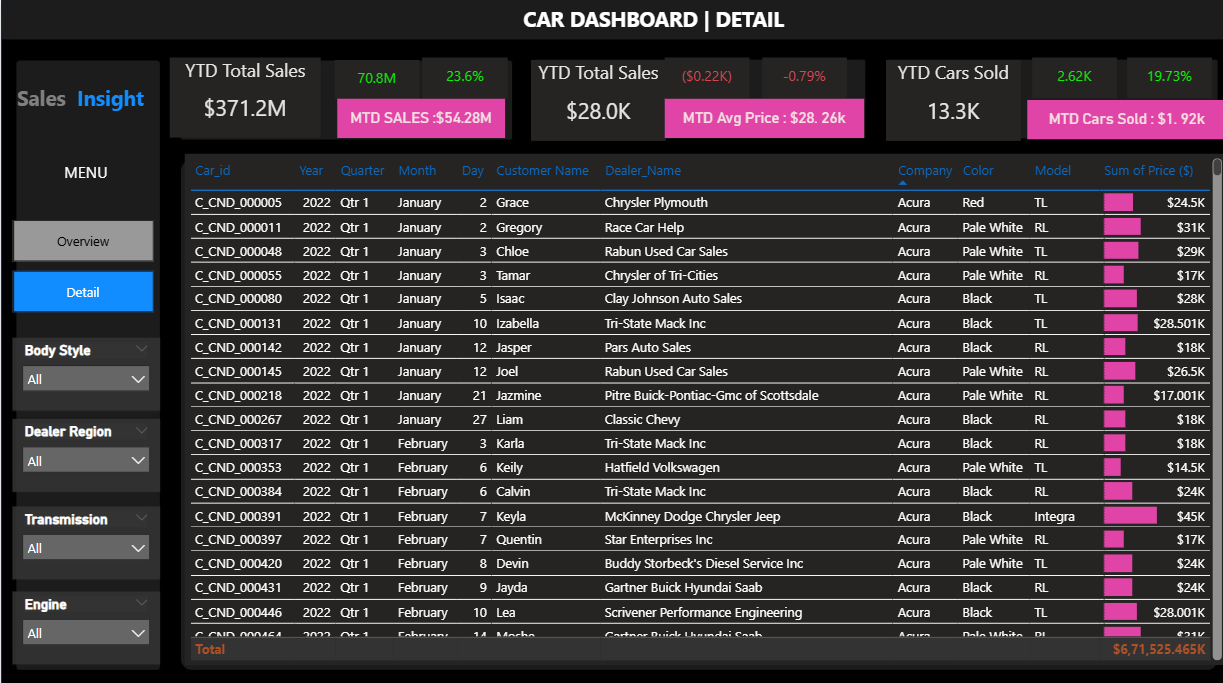

This screenshot's page, from the dashboard's own definition file:
{"tool":"powerbi","page":{"name":"Detail","canvas":[1280,720],"ordinal":1},"visuals":[{"type":"card","title":"YTD Total Sales","fields":{"Values":["car_data.YTD Total Sales"]},"box":[175.5,60.1,157.1,83.4],"z":0},{"type":"card","fields":{"Values":["car_data.dif sales"]},"box":[347.2,61.7,87.8,41.2],"z":1000},{"type":"card","fields":{"Values":["car_data.yoy sales diff"]},"box":[437.7,60.4,89.2,42.5],"z":2000},{"type":"card","fields":{"Values":["car_data.MTD SALES"]},"box":[349.9,102.9,174.3,41.2],"z":3000},{"type":"card","title":"YTD Total Sales","fields":{"Values":["car_data.YTD Avg Price"]},"box":[550.3,61.7,140,83.7],"z":4000},{"type":"card","fields":{"Values":["car_data.Avg Price Diff"]},"box":[690.2,60.4,87.8,42.5],"z":5000},{"type":"card","fields":{"Values":["car_data.YoY Avg Price Growth"]},"box":[790.4,60.4,87.8,42.5],"z":6000},{"type":"card","fields":{"Values":["car_data.MTD Avg Price KPI"]},"box":[690.2,102.9,207.2,41.2],"z":7000},{"type":"card","title":"YTD Cars Sold","fields":{"Values":["car_data.YTD Cars Sold"]},"box":[919.4,61.7,140,83.7],"z":8000},{"type":"card","fields":{"Values":["car_data.Cars Sold Diff"]},"box":[1071.7,60.4,87.8,42.5],"z":9000},{"type":"card","fields":{"Values":["car_data.YoY Car Sold Growth"]},"box":[1170.5,60.4,87.8,42.5],"z":10000},{"type":"card","fields":{"Values":["car_data.MTD Cars Sold KPI"]},"box":[1066.2,104.3,207.2,41.2],"z":11000},{"type":"textbox","box":[0,0,1273.6,90.8],"z":12000},{"type":"slicer","fields":{"Values":["car_data.Body Style"]},"box":[11,350.9,153.4,76.1],"z":13000},{"type":"slicer","fields":{"Values":["car_data.Dealer_Region"]},"box":[11,435.6,153.4,76.1],"z":14000},{"type":"slicer","fields":{"Values":["car_data.Transmission"]},"box":[11,526.4,153.4,76.1],"z":15000},{"type":"slicer","fields":{"Values":["car_data.Engine"]},"box":[11,614.7,153.4,76.1],"z":16000},{"type":"tableEx","fields":{"Values":["car_data.Car_id","Calendar Table.Date.Variation.Date Hierarchy.Year","Calendar Table.Date.Variation.Date Hierarchy.Quarter","Calendar Table.Date.Variation.Date Hierarchy.Month","Calendar Table.Date.Variation.Date Hierarchy.Day","car_data.Customer Name","car_data.Dealer_Name","car_data.Company","car_data.Color","car_data.Model","car_data.Price ($)"]},"box":[191.4,159.5,1082.2,531.3],"z":17000},{"type":"textbox","box":[11,82.2,153.4,42.9],"z":18000},{"type":"pageNavigator","box":[11,228.2,147.2,96.9],"z":19000},{"type":"textbox","box":[11,162,153.4,35.6],"z":20000}]}

Visuals, with their boxes in screenshot pixels (x1, y1, x2, y2), scaled from the page's 1280x720 canvas onto the 1223x683 screenshot:
"YTD Total Sales" card: crop(168, 57, 318, 136)
card - car_data.dif sales: crop(332, 59, 416, 98)
card - car_data.yoy sales diff: crop(418, 57, 503, 98)
card - car_data.MTD SALES: crop(334, 98, 501, 137)
"YTD Total Sales" card: crop(526, 59, 660, 138)
card - car_data.Avg Price Diff: crop(659, 57, 743, 98)
card - car_data.YoY Avg Price Growth: crop(755, 57, 839, 98)
card - car_data.MTD Avg Price KPI: crop(659, 98, 857, 137)
"YTD Cars Sold" card: crop(878, 59, 1012, 138)
card - car_data.Cars Sold Diff: crop(1024, 57, 1108, 98)
card - car_data.YoY Car Sold Growth: crop(1118, 57, 1202, 98)
card - car_data.MTD Cars Sold KPI: crop(1019, 99, 1217, 138)
textbox: crop(0, 0, 1217, 86)
slicer - car_data.Body Style: crop(11, 333, 157, 405)
slicer - car_data.Dealer_Region: crop(11, 413, 157, 485)
slicer - car_data.Transmission: crop(11, 499, 157, 572)
slicer - car_data.Engine: crop(11, 583, 157, 655)
tableEx - car_data.Car_id x Calendar Table.Date.Variation.Date Hierarchy.Year: crop(183, 151, 1217, 655)
textbox: crop(11, 78, 157, 119)
pageNavigator: crop(11, 216, 151, 308)
textbox: crop(11, 154, 157, 187)
